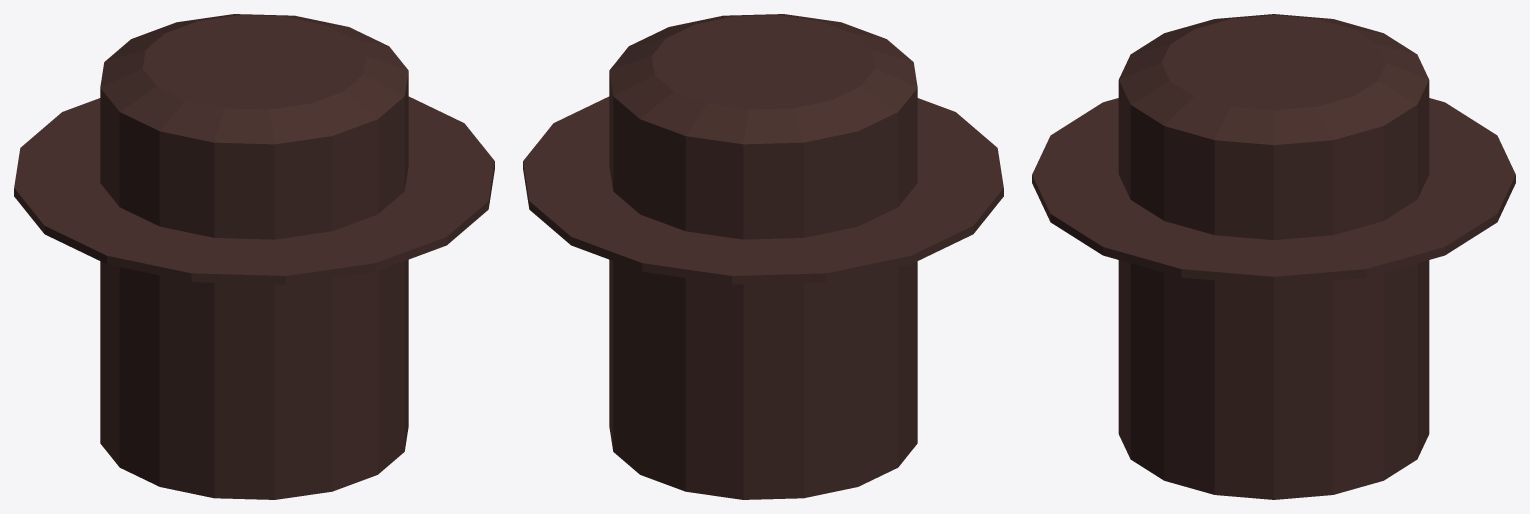
File: Silo.glb
3 renders of one model, left to right at view 1: azimuth 30°, elevation 25°; view 2: azimuth 150°, elevation 25°; view 3: azimuth 270°, elevation 25°, orthographic.
Parts seen in each view (by area): view 1: Silo; view 2: Silo; view 3: Silo.
Part boxes in pixels (left/top/right/bottom): Silo: left=14, top=14, right=494, bottom=499; Silo: left=523, top=14, right=1003, bottom=499; Silo: left=1032, top=14, right=1515, bottom=499.
Size of the model in its own units: 10.58 by 8.97 by 10.58.
